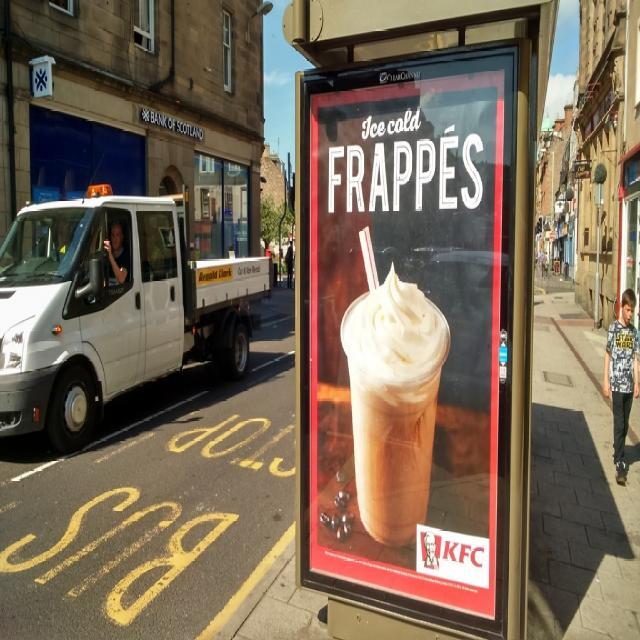Ice cream: (339, 262, 447, 382)
